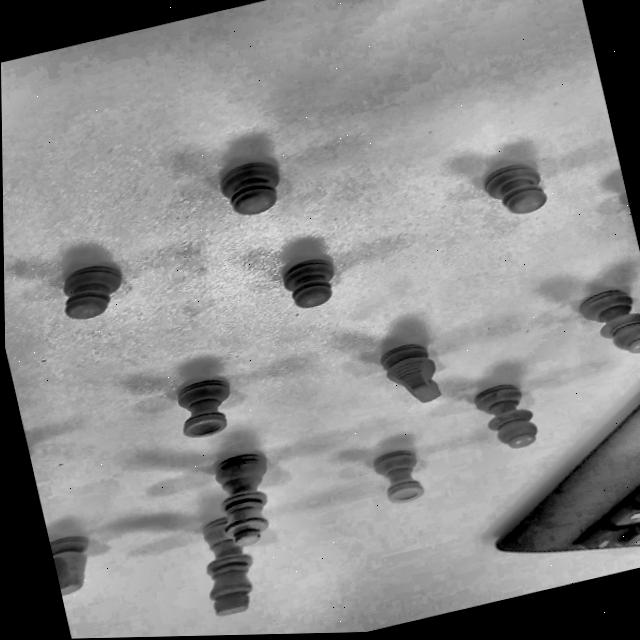white-bishop: (574, 281, 640, 363), (471, 378, 540, 455)
white-king: (192, 512, 261, 618)
white-knight: (375, 337, 443, 410), (47, 530, 97, 596)
white-pawn: (54, 258, 129, 324), (478, 155, 551, 222), (214, 156, 286, 221), (277, 254, 341, 313), (365, 0, 461, 5)
white-queen: (200, 448, 291, 557)
white-rook: (171, 375, 238, 442), (369, 445, 426, 506)
